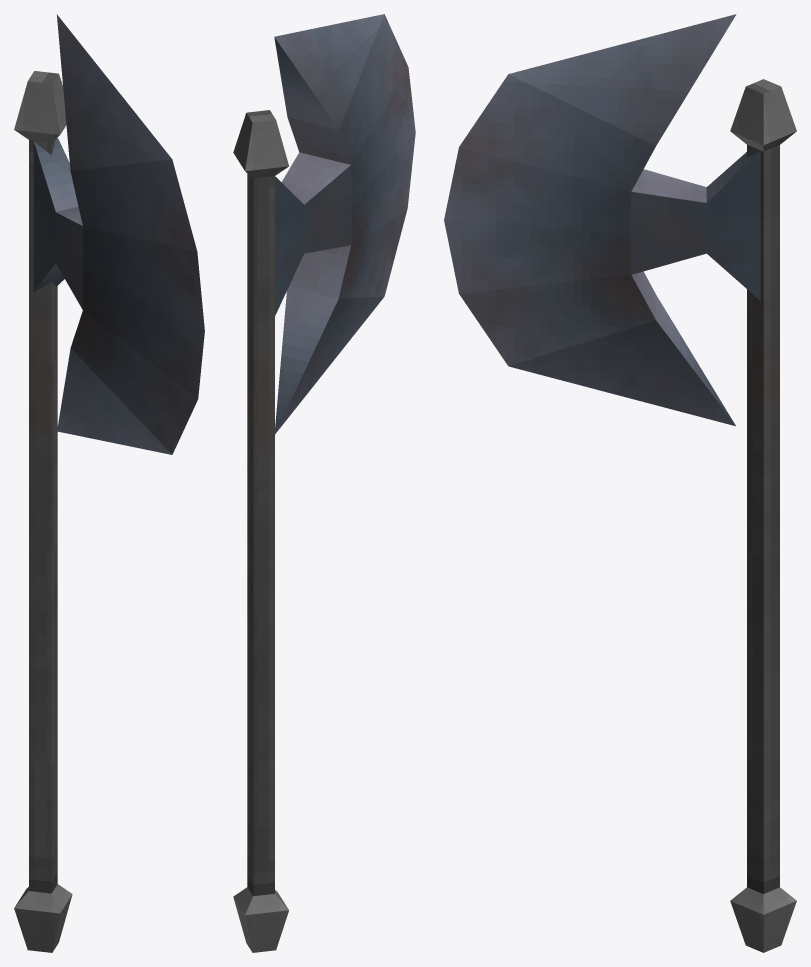
File: axe.glb
3 renders of one model, left to right at view 1: azimuth 30°, elevation 25°; view 2: azimuth 150°, elevation 25°; view 3: azimuth 270°, elevation 25°, orthographic. The views are drawn at different scales.
Parts seen in each view (by area): view 1: Cube; view 2: Cube; view 3: Cube.
Part boxes in pixels (box(x1,y1,x2,y2)): Cube: box(14, 14, 204, 952); Cube: box(233, 14, 415, 952); Cube: box(444, 14, 796, 952).
Bounding box in the file's own units: 0.0424 × 0.6511 × 0.2236.
Materials: 1 (1 with a texture image).
